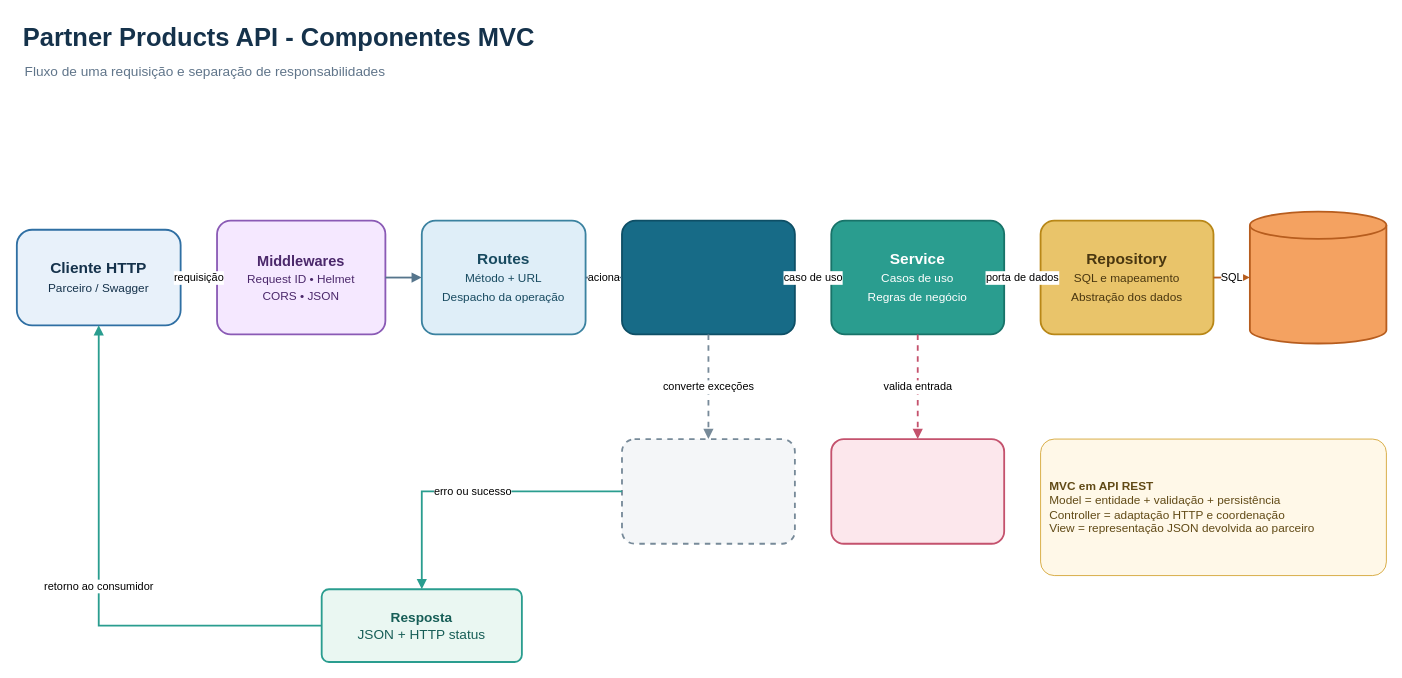
This 1402x678 diagram has some shape labels left out. Each missing label, with the box of its shape:
Controller Entrada HTTP Status e resposta JSON: (621, 219, 795, 335)
Model / Schemas Entidade Produto Validação com Zod: (830, 438, 1005, 544)
SQLite Tabela products Índice e constraints: (1249, 210, 1387, 344)
Tratamento de Erros 404 • 409 • 422 • 500 Contrato padronizado: (621, 438, 795, 544)
